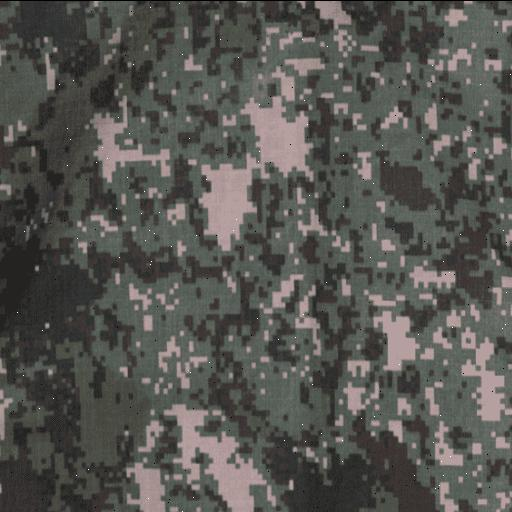korea army: (1, 0, 512, 511)
